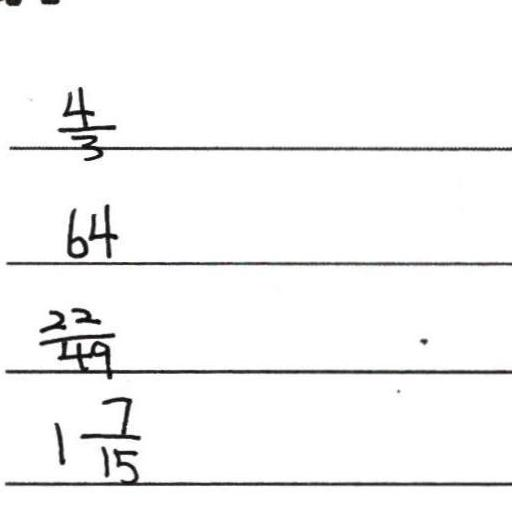ans: (50, 391, 145, 485), (40, 305, 116, 380), (52, 80, 116, 163), (59, 198, 118, 260)
